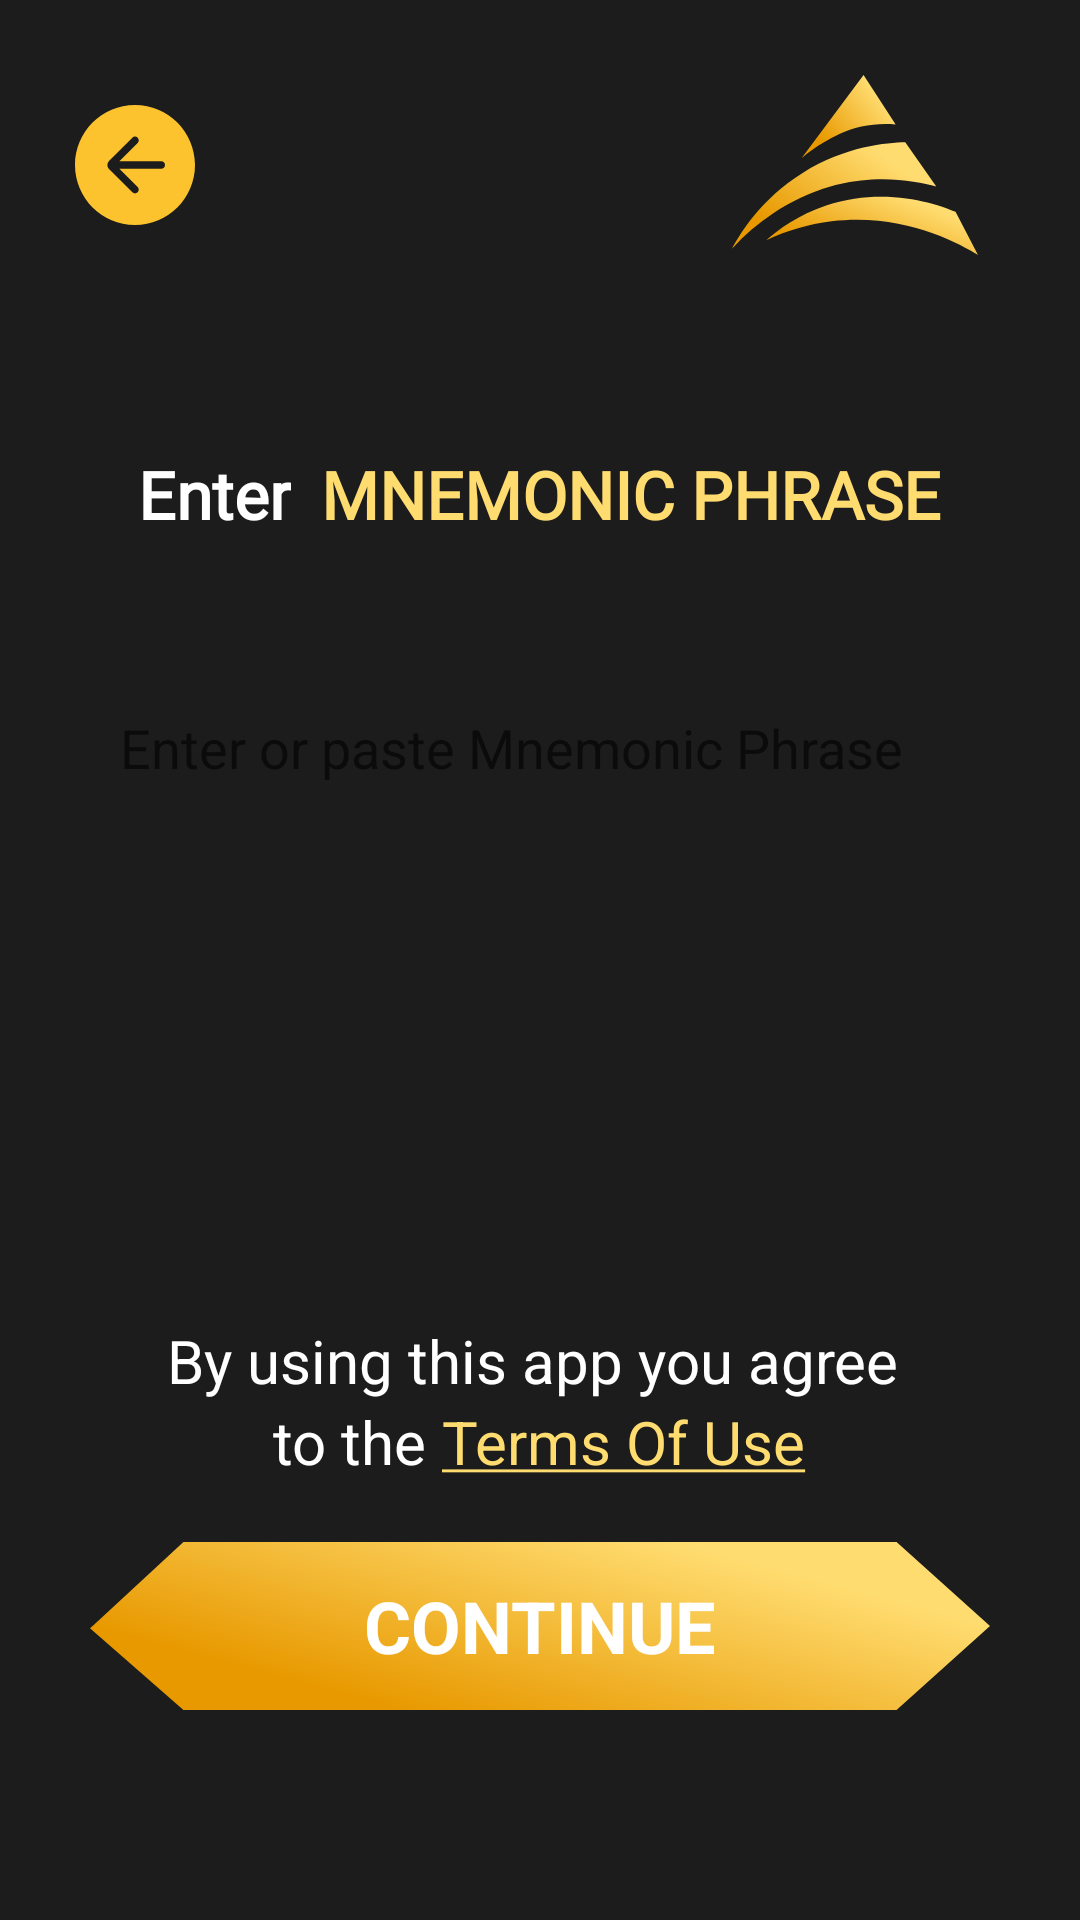

Icon click points for this 1080px x 1920px phone screenshot, format [x,y]:
back: [135,165]
